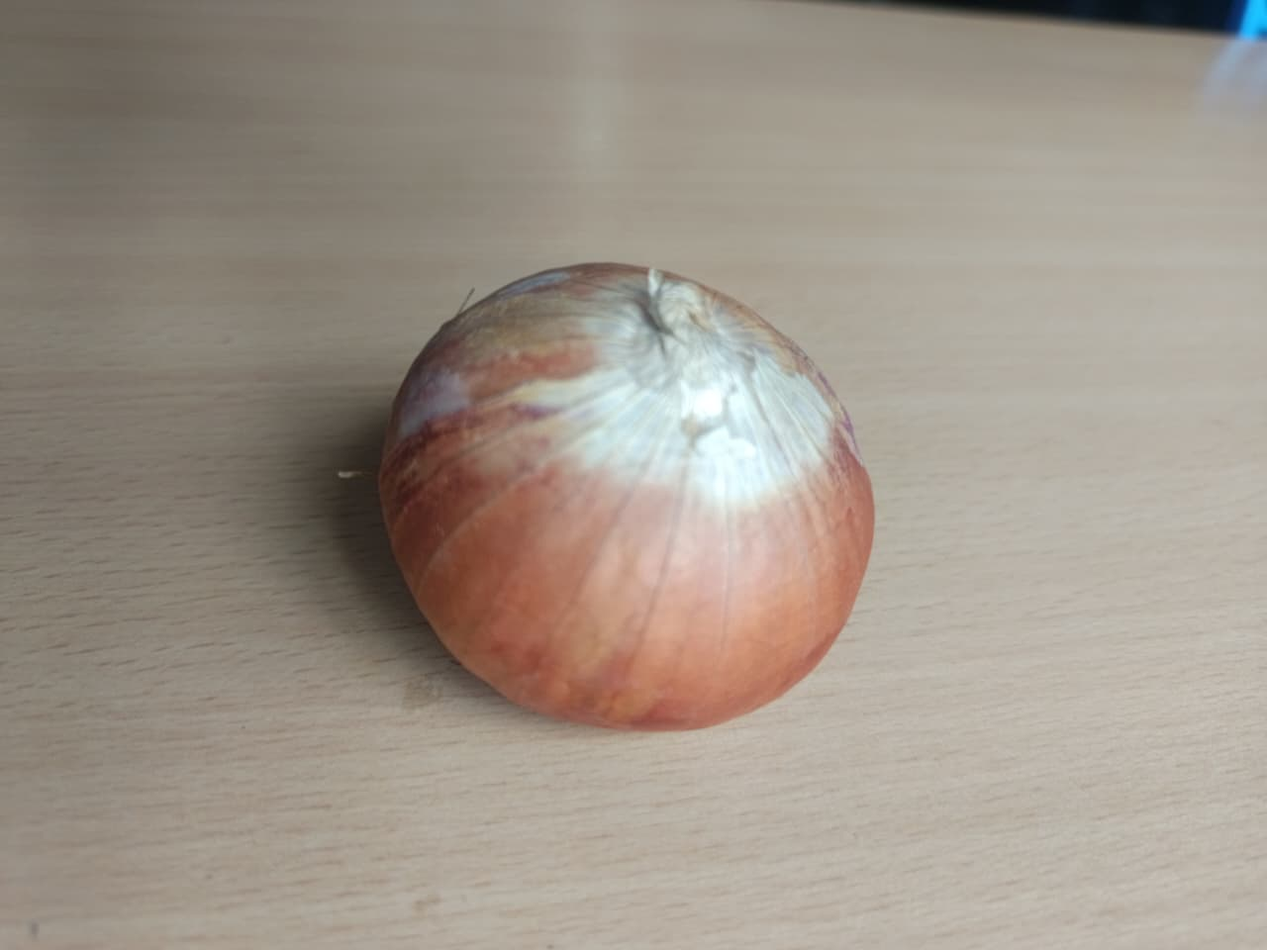HEALTHY: (376, 253, 898, 734)
